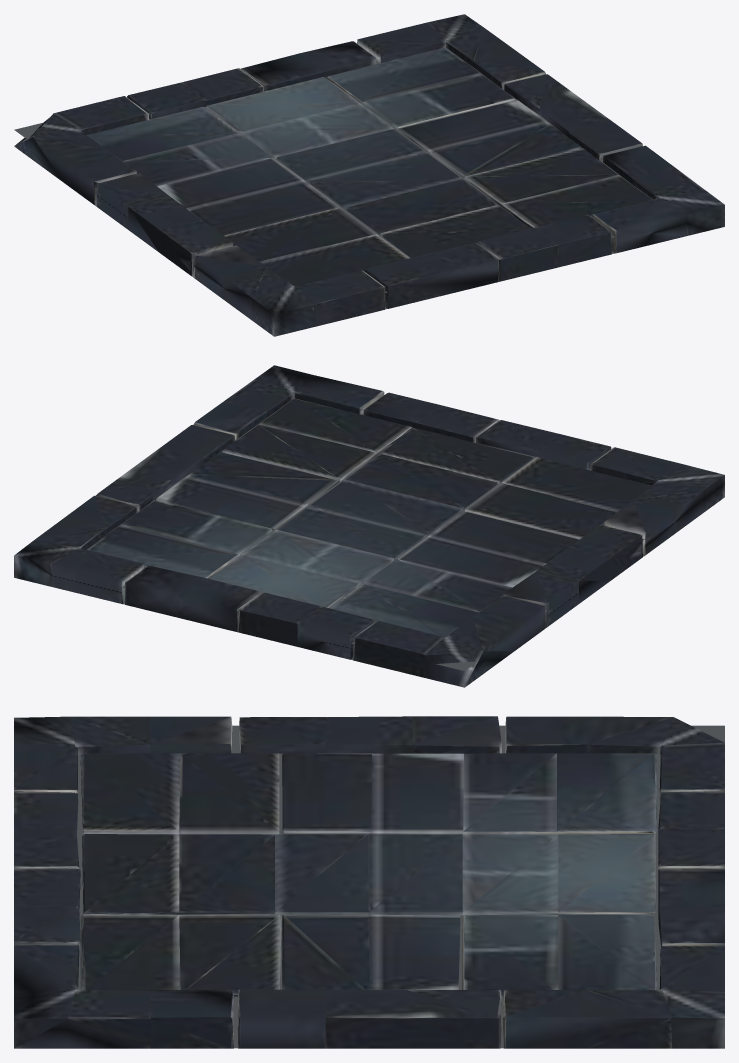
The model's file is floor-slate.lod1.glb.
The picture shows the model from 3 angles, top to bottom: view 1: azimuth 30°, elevation 25°; view 2: azimuth 150°, elevation 25°; view 3: azimuth 270°, elevation 25°; orthographic projection. The views are drawn at different scales.
Size of the model in its own units: 2 by 0.0997 by 2.
Materials: 1 (1 with a texture image).
